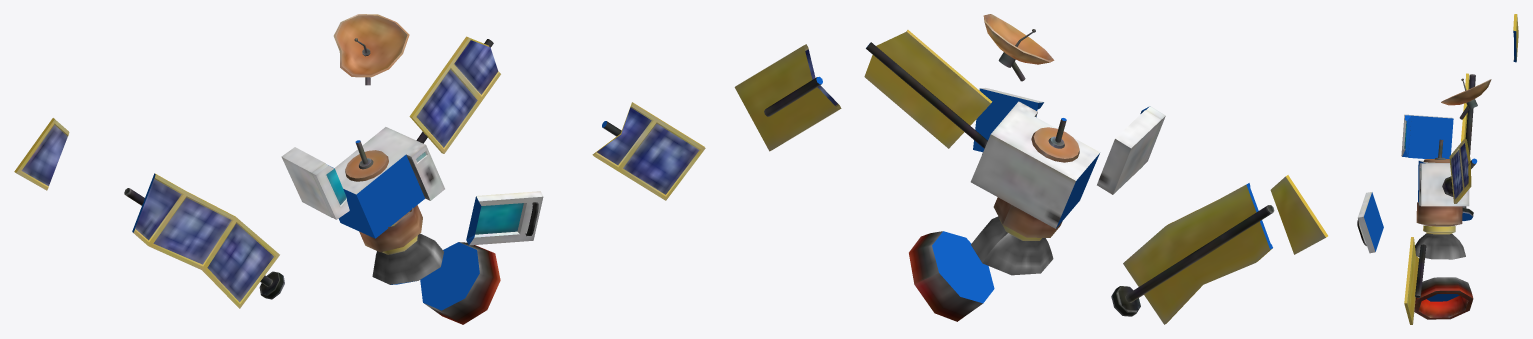
The model's file is destroyed_satellite.obj.
3 views of the same model, side by side, from view 1: azimuth 30°, elevation 25°; view 2: azimuth 150°, elevation 25°; view 3: azimuth 270°, elevation 25° (orthographic). The views are drawn at different scales.
Visible parts, largest first — view 1: satellite.001; view 2: satellite.001; view 3: satellite.001.
Part boxes in pixels (x1,y1,x2,y2): satellite.001: (14,14,705,324); satellite.001: (734,14,1327,324); satellite.001: (1357,14,1518,324).
Size of the model in its own units: 4.79 by 2.23 by 1.49.
